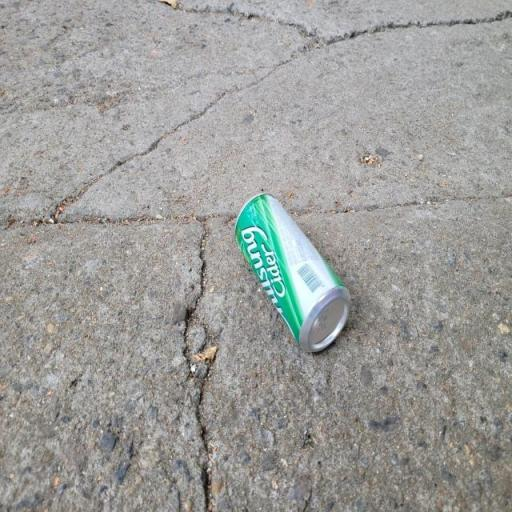metal: (217, 163, 350, 377)
